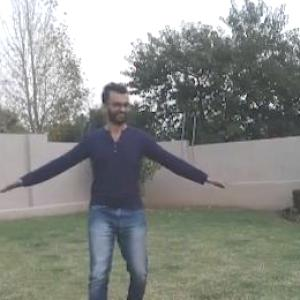land: (1, 44, 253, 299)
